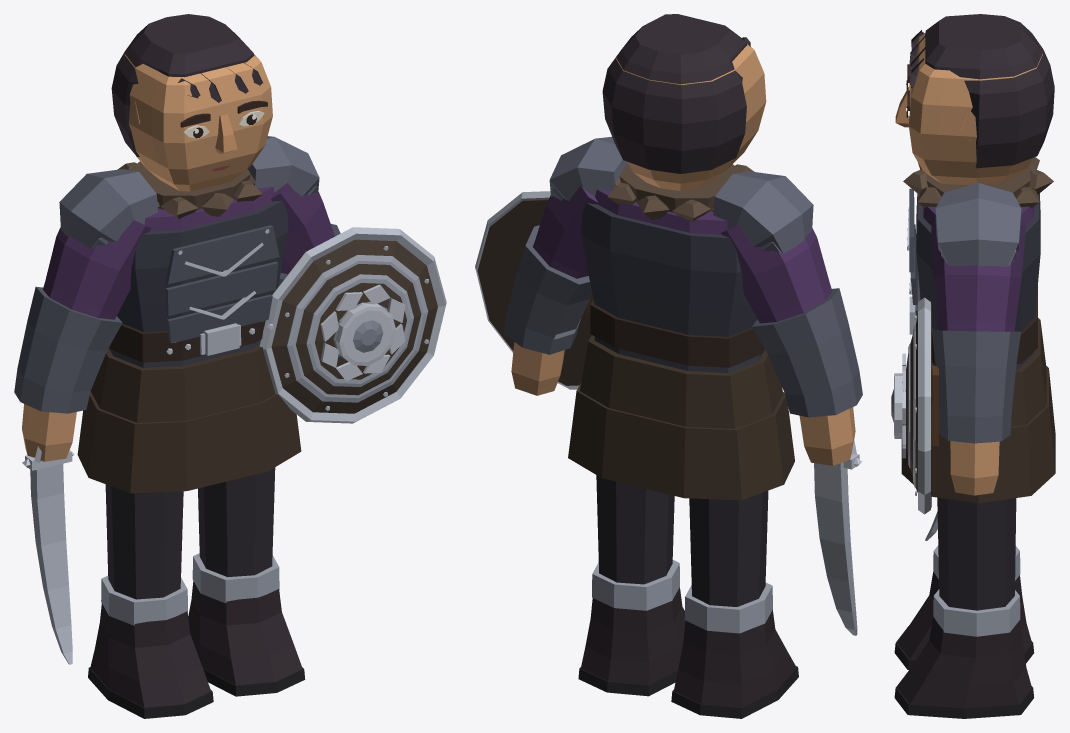
File: warrior-epic.obj
The picture shows the model from 3 angles, left to right: view 1: azimuth 30°, elevation 25°; view 2: azimuth 150°, elevation 25°; view 3: azimuth 270°, elevation 25°; orthographic projection.
Visible parts, largest first — view 1: kalca-plakalari, cizmeler, bacaklar, kafa, kalkan, kollar, gogus-plakalari, kol-zirhlari, omuz-plakalari, gogus-zirhi, sac, kalkan-suslemeleri (+12 smaller); view 2: kalca-plakalari, sac, gogus-zirhi, kol-zirhlari, bacaklar, cizmeler, kollar, omuz-plakalari, kalkan, kemer, cizme-plakalari, kilic (+6 smaller); view 3: sac, cizmeler, kol-zirhlari, kalca-plakalari, bacaklar, kafa, omuz-plakalari, kollar, gogus-zirhi, cizme-plakalari, kalkan-cercedeyi, eller (+10 smaller).
Part boxes in pixels (<box>): kalca-plakalari: <box>77,344,301,493</box>; cizmeler: <box>90,581,302,707</box>; bacaklar: <box>105,467,275,599</box>; kafa: <box>124,42,272,191</box>; kalkan: <box>271,239,437,413</box>; kollar: <box>43,183,334,319</box>; gogus-plakalari: <box>165,225,279,343</box>; kol-zirhlari: <box>14,224,340,413</box>; omuz-plakalari: <box>59,136,319,248</box>; gogus-zirhi: <box>109,200,288,367</box>; sac: <box>111,14,263,156</box>; kalkan-suslemeleri: <box>284,246,428,410</box>; kalca-plakalari: <box>568,335,794,500</box>; sac: <box>602,14,750,173</box>; gogus-zirhi: <box>581,203,765,373</box>; kol-zirhlari: <box>503,225,862,417</box>; bacaklar: <box>596,475,768,606</box>; cizmeler: <box>581,587,796,707</box>; kollar: <box>532,186,832,323</box>; omuz-plakalari: <box>549,136,813,253</box>; kalkan: <box>477,199,591,385</box>; kemer: <box>590,300,764,367</box>; cizme-plakalari: <box>592,560,772,633</box>; kilic: <box>814,462,857,635</box>; sac: <box>909,14,1054,168</box>; cizmeler: <box>897,572,1031,707</box>; kol-zirhlari: <box>932,330,1020,442</box>; kalca-plakalari: <box>901,318,1055,503</box>; bacaklar: <box>937,497,1016,610</box>; kafa: <box>908,33,1042,185</box>; omuz-plakalari: <box>935,183,1021,267</box>; kollar: <box>931,222,1025,443</box>; gogus-zirhi: <box>916,193,1040,369</box>; cizme-plakalari: <box>933,545,1020,636</box>; kalkan-cercedeyi: <box>918,297,930,514</box>; eller: <box>950,441,999,495</box>.
Bounding box in the file's own units: 26.3 × 40.05 × 9.27.
